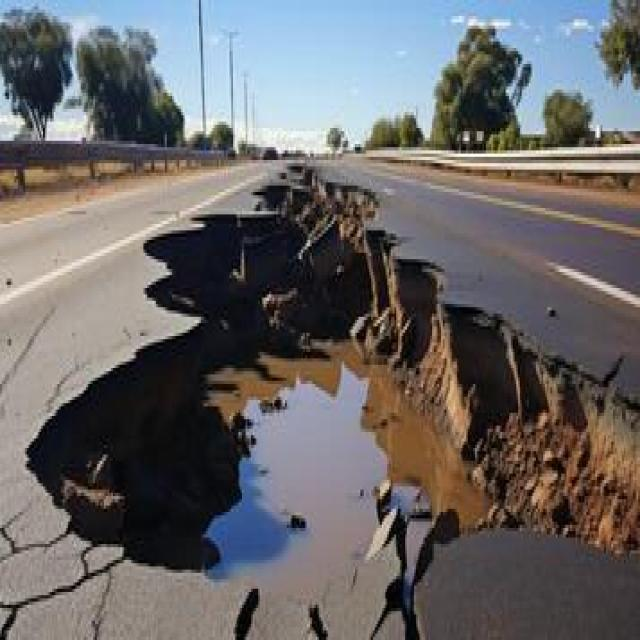road collapse: (16, 109, 640, 640)
